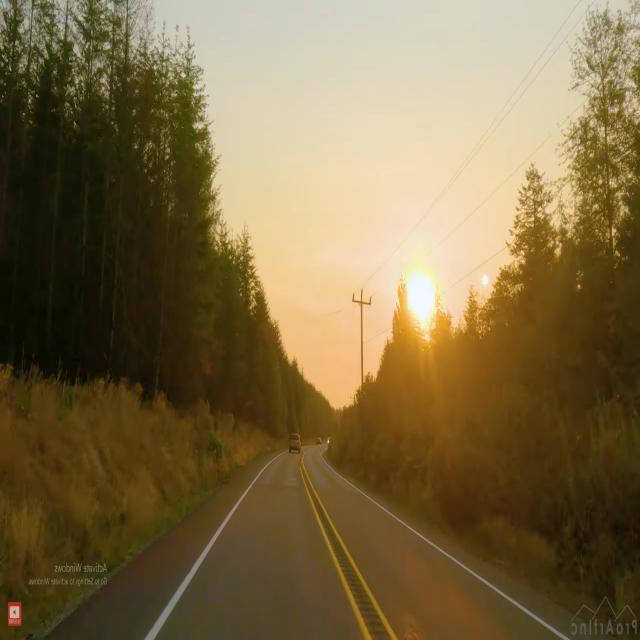sun: (396, 249, 442, 340)
